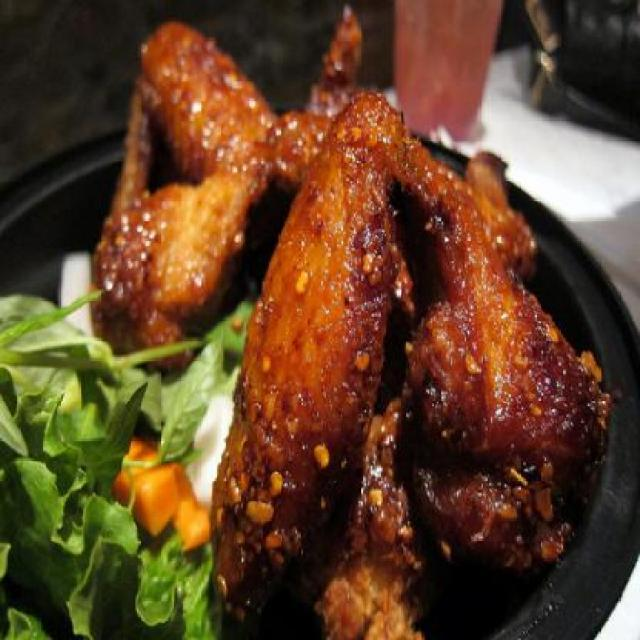Deep fried chicken wing: (116, 66, 592, 537)
Salad: (1, 286, 212, 612)
